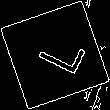L_NW: (26, 30, 84, 80)
